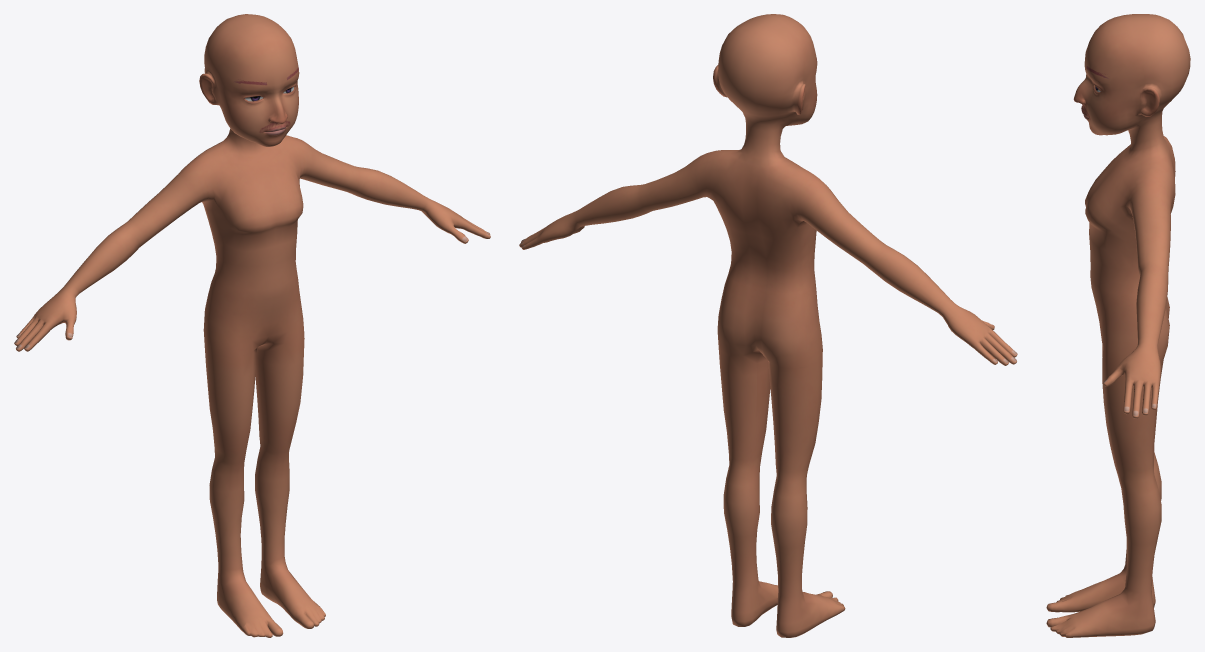
The model's file is frame_0015.glb.
The picture shows the model from 3 angles, left to right: view 1: azimuth 30°, elevation 25°; view 2: azimuth 150°, elevation 25°; view 3: azimuth 270°, elevation 25°; orthographic projection. The views are drawn at different scales.
Visible parts, largest first — view 1: frame_0015_head_geo; view 2: frame_0015_head_geo; view 3: frame_0015_head_geo.
Part boxes in pixels (bbox=[...]): frame_0015_head_geo: bbox=[14, 14, 490, 637]; frame_0015_head_geo: bbox=[519, 14, 1017, 637]; frame_0015_head_geo: bbox=[1046, 14, 1190, 637].
Bounding box in the file's own units: 1.28 × 1.5 × 0.3253.
Materials: 3 (3 with a texture image).
